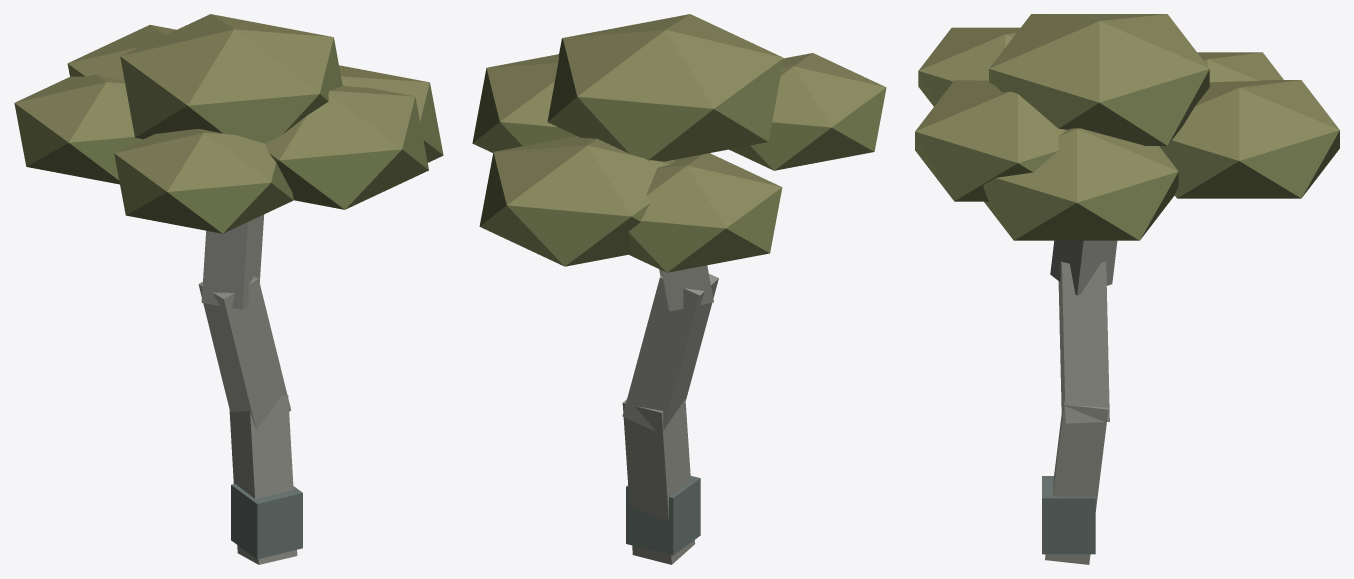
Rendered from SM_Pino_v0_LOD1.fbx.
The picture shows the model from 3 angles, left to right: view 1: azimuth 30°, elevation 25°; view 2: azimuth 150°, elevation 25°; view 3: azimuth 270°, elevation 25°; orthographic projection. The views are drawn at different scales.
Parts seen in each view (by area): view 1: SM_pino_v0_LOD1; view 2: SM_pino_v0_LOD1; view 3: SM_pino_v0_LOD1.
Boxes of the visible parts, x1,y1,x2,y2 form: SM_pino_v0_LOD1: [14, 14, 443, 564]; SM_pino_v0_LOD1: [472, 14, 886, 564]; SM_pino_v0_LOD1: [915, 14, 1339, 564].
Size of the model in its own units: 6.41 by 9.39 by 6.88.
